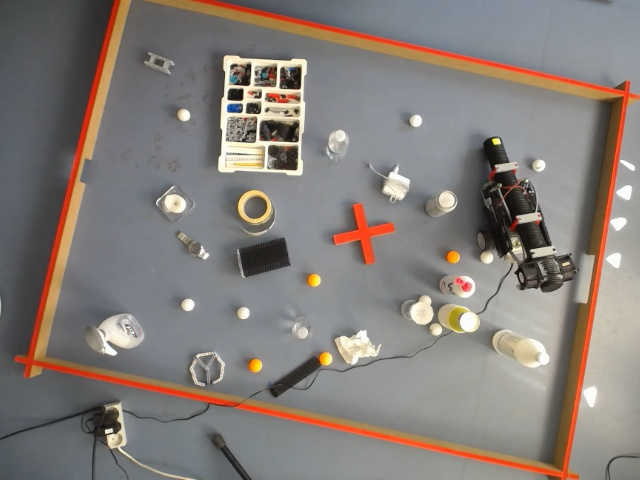orange: (445, 250, 461, 265), (247, 358, 263, 373)
robot: (0, 399, 351, 480), (482, 135, 616, 296)
white: (1, 1, 202, 459), (0, 3, 251, 368), (1, 0, 185, 308), (415, 294, 433, 326), (459, 308, 480, 334)
